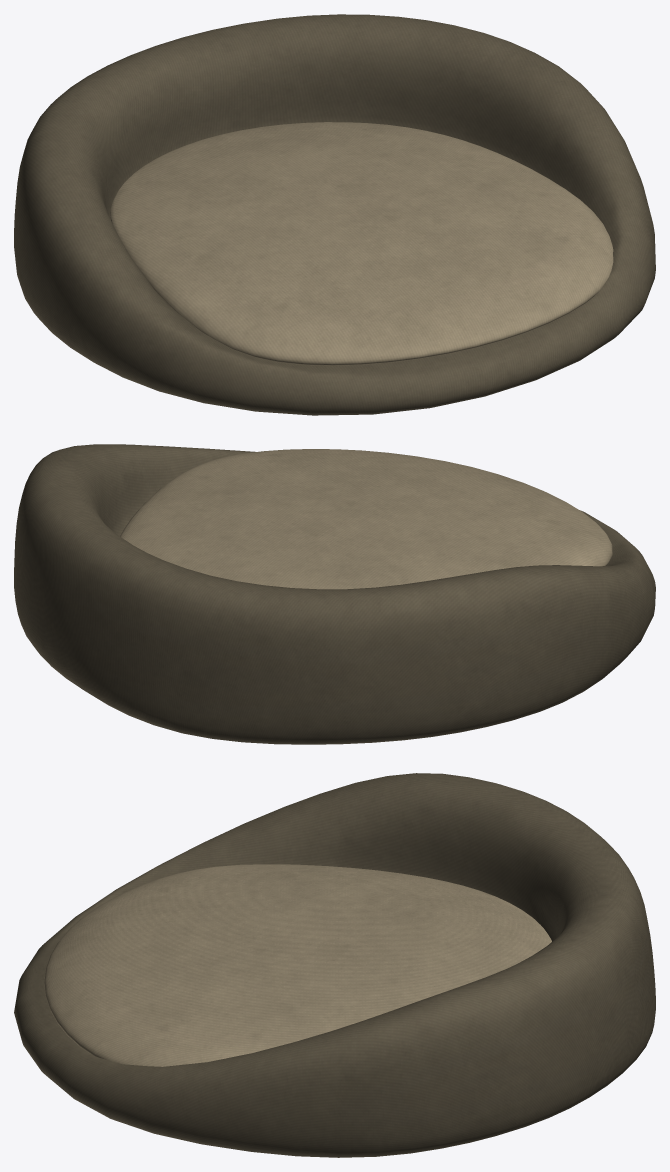
Rendered from CatBed.fbx.
The picture shows the model from 3 angles, top to bottom: view 1: azimuth 30°, elevation 25°; view 2: azimuth 150°, elevation 25°; view 3: azimuth 270°, elevation 25°; orthographic projection.
Parts seen in each view (by area): view 1: bed, pillow; view 2: bed, pillow; view 3: bed, pillow.
Boxes of the visible parts, bbox=[...] form: bed: bbox=[14, 14, 655, 415]; pillow: bbox=[110, 122, 613, 365]; bed: bbox=[14, 444, 655, 744]; pillow: bbox=[120, 449, 612, 589]; bed: bbox=[14, 773, 655, 1157]; pillow: bbox=[44, 864, 551, 1066].
Size of the model in its own units: 32.03 by 8.21 by 31.65.
Materials: 1 (1 with a texture image).
